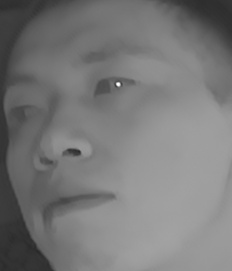eye: (86, 72, 145, 103), (3, 98, 51, 128)
mouth: (34, 175, 118, 228)
